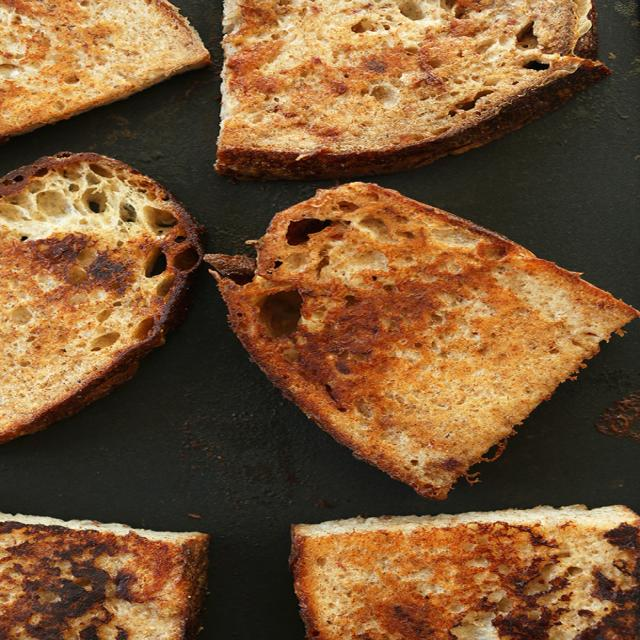Bread: (206, 182, 638, 499), (216, 0, 609, 180), (0, 152, 204, 441), (291, 505, 639, 640), (0, 0, 212, 141), (0, 514, 210, 640)
